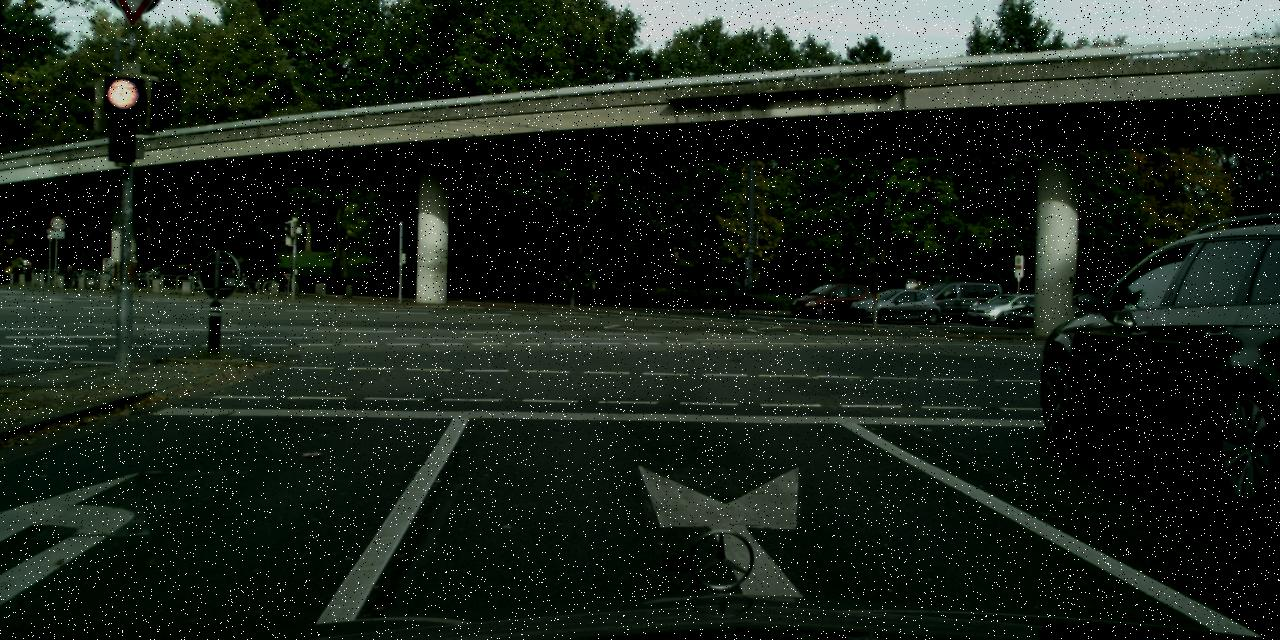ped: (728, 276, 743, 314), (913, 280, 925, 310)
